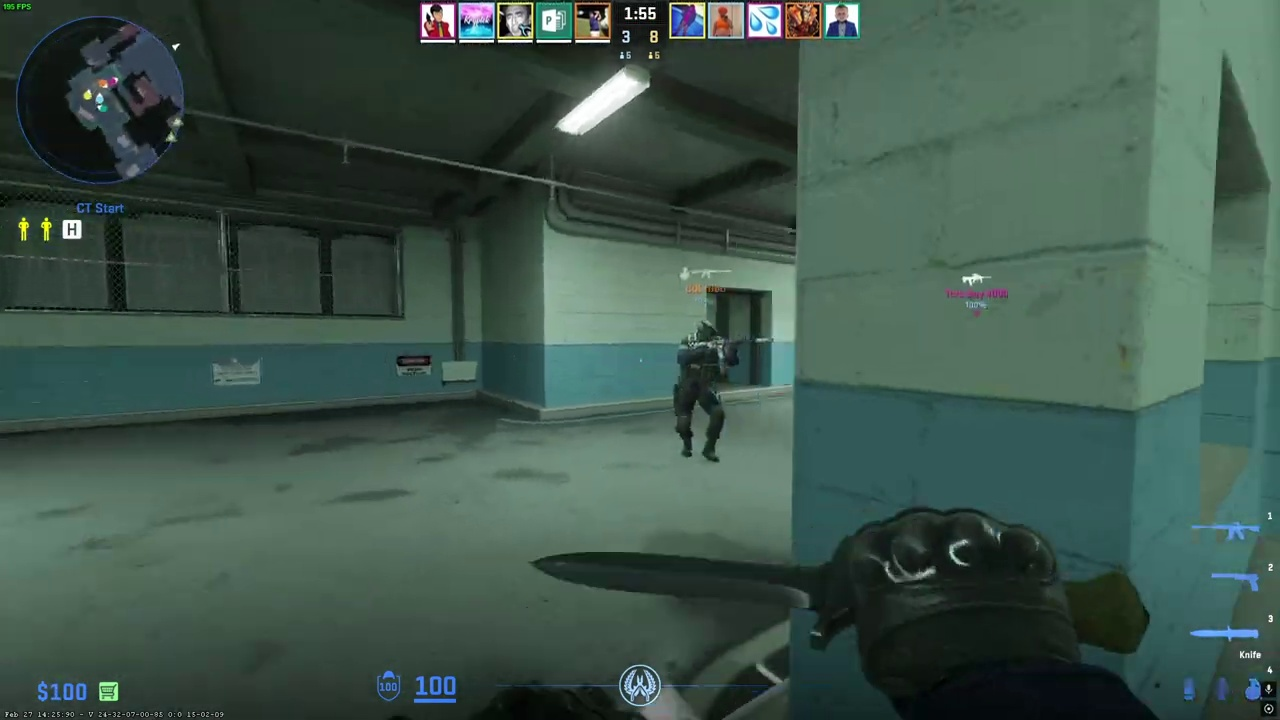CT: (673, 320, 735, 463)
